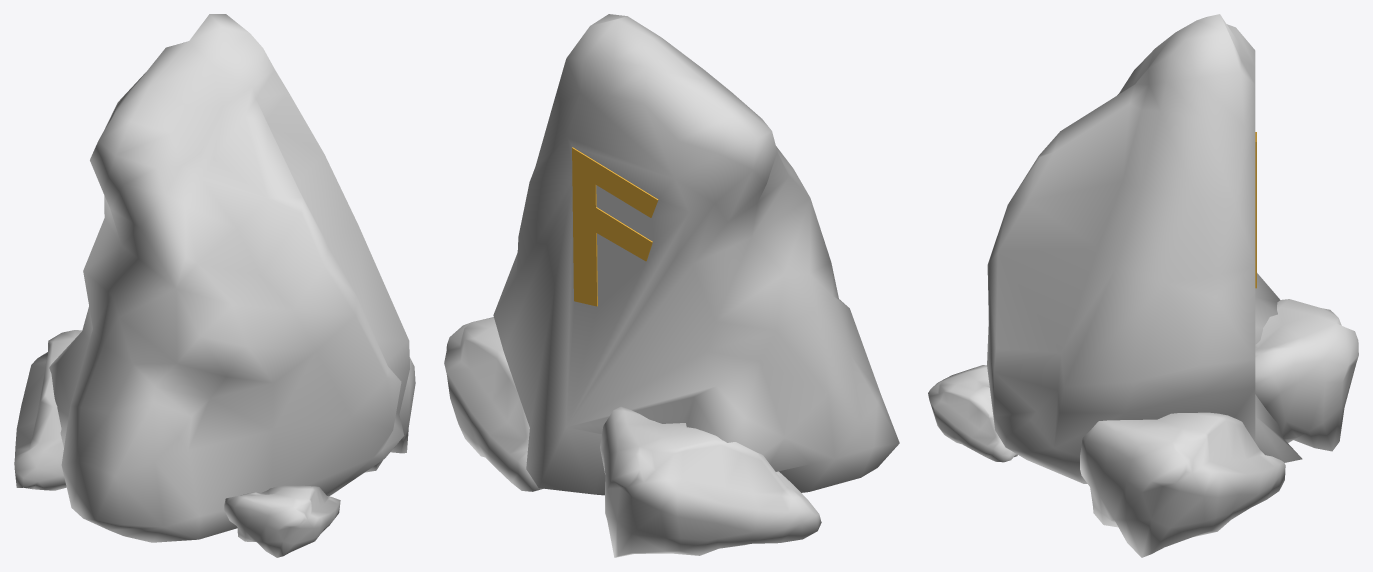
Rendered from Ansuz.fbx.
3 views of the same model, side by side, from view 1: azimuth 30°, elevation 25°; view 2: azimuth 150°, elevation 25°; view 3: azimuth 270°, elevation 25° (orthographic). The views are drawn at different scales.
Visible parts, largest first — view 1: uploads_files_4276670_stone_small; view 2: uploads_files_4276670_stone_small, Ansuz; view 3: uploads_files_4276670_stone_small.
Boxes of the visible parts, left/top/right/bottom form: uploads_files_4276670_stone_small: left=14, top=14, right=415, bottom=557; uploads_files_4276670_stone_small: left=444, top=14, right=899, bottom=557; Ansuz: left=572, top=147, right=658, bottom=306; uploads_files_4276670_stone_small: left=928, top=14, right=1358, bottom=557.
Bounding box in the file's own units: 155 × 181 × 152.
